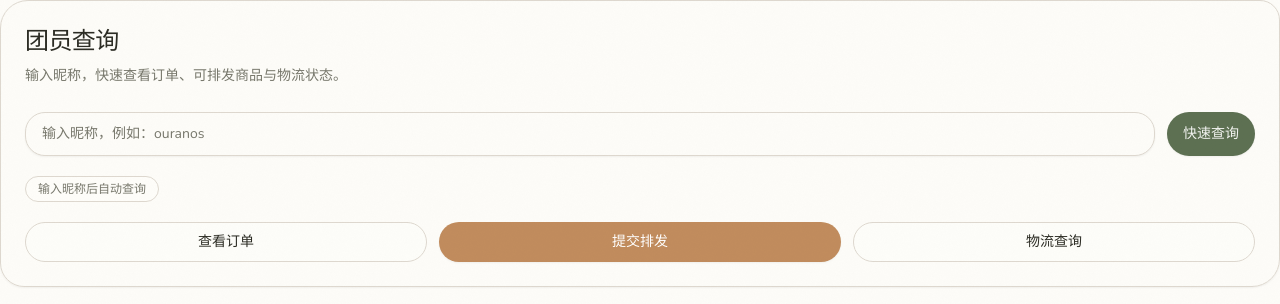
Test: NicknameSearch blocks navigation when nickname is empty
Click the button "快速查询". click: (1211, 134)
box: [1167,112,1255,156]
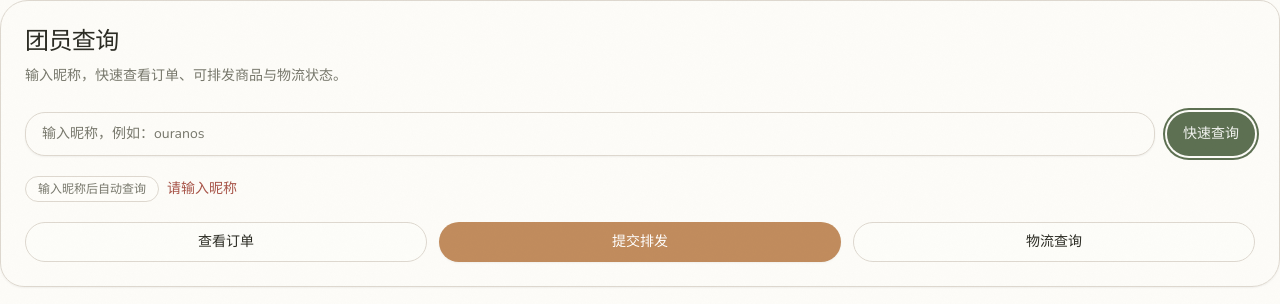
Check: the text "请输入昵称" is shown, box [167,179,237,199]
